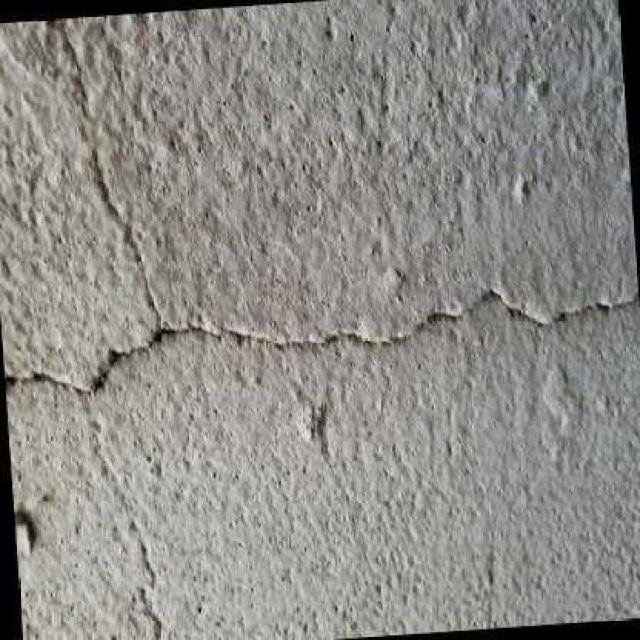D00: (3, 18, 640, 397)
